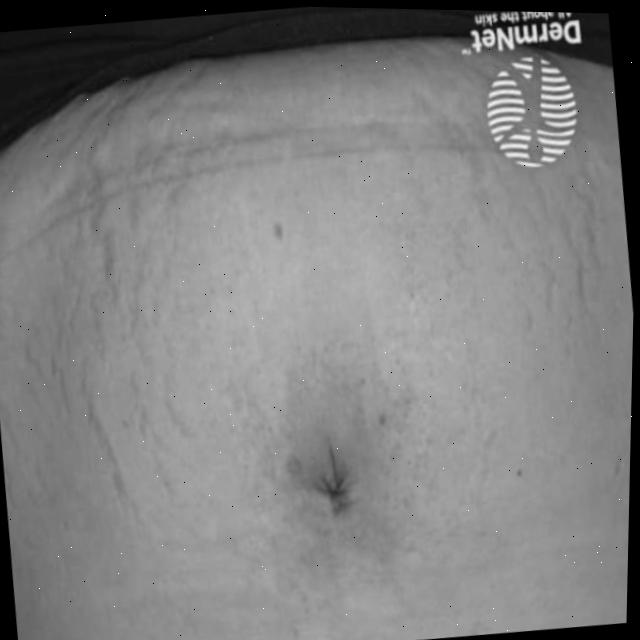Eczema: (223, 334, 443, 598)
